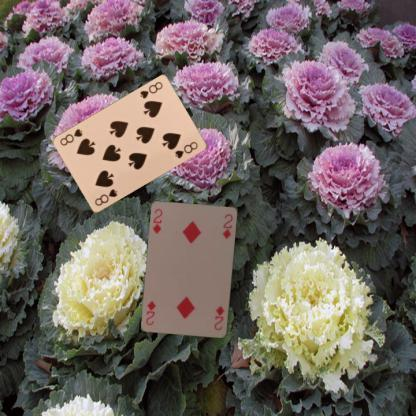2d: (211, 303, 226, 332), (150, 206, 164, 235)
8s: (92, 186, 118, 208), (138, 79, 164, 100)
